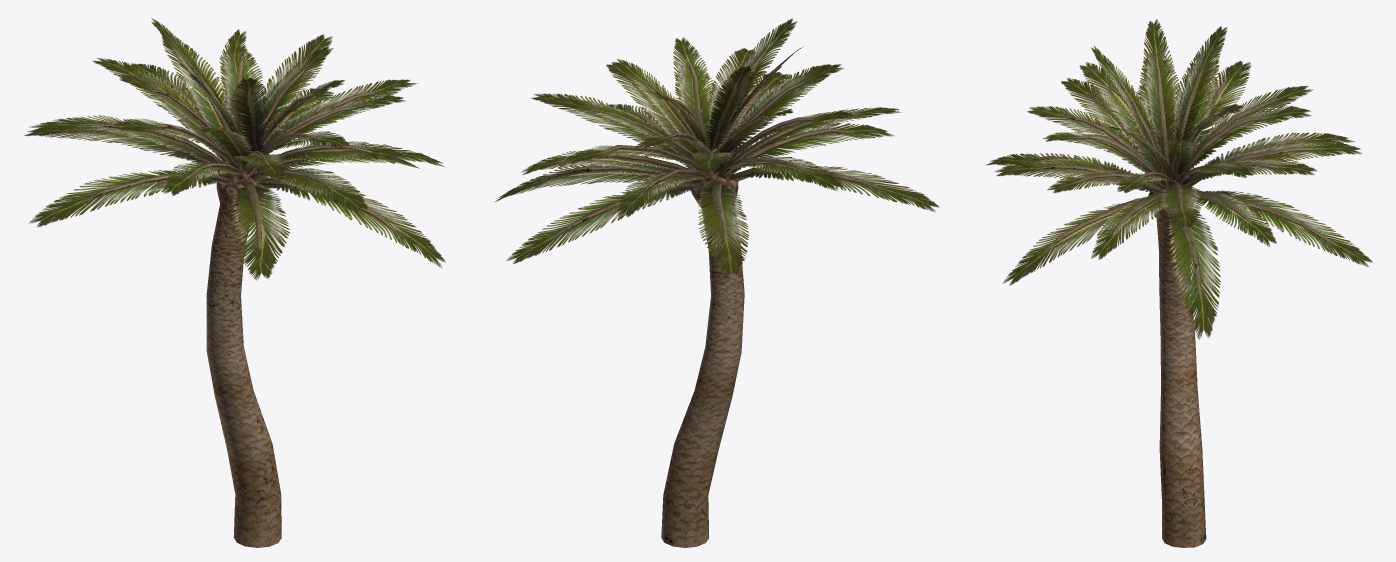
File: palm-low.glb
3 views of the same model, side by side, from view 1: azimuth 30°, elevation 25°; view 2: azimuth 150°, elevation 25°; view 3: azimuth 270°, elevation 25° (orthographic). The views are drawn at different scales.
Visible parts, largest first — view 1: palm-low-0; view 2: palm-low-0; view 3: palm-low-0.
Part boxes in pixels (<box>): palm-low-0: <box>24,18,445,547</box>; palm-low-0: <box>495,18,939,547</box>; palm-low-0: <box>986,19,1372,547</box>.
Bounding box in the file's own units: 0.8893 × 1 × 0.7644.
Materials: 1 (1 with a texture image).
